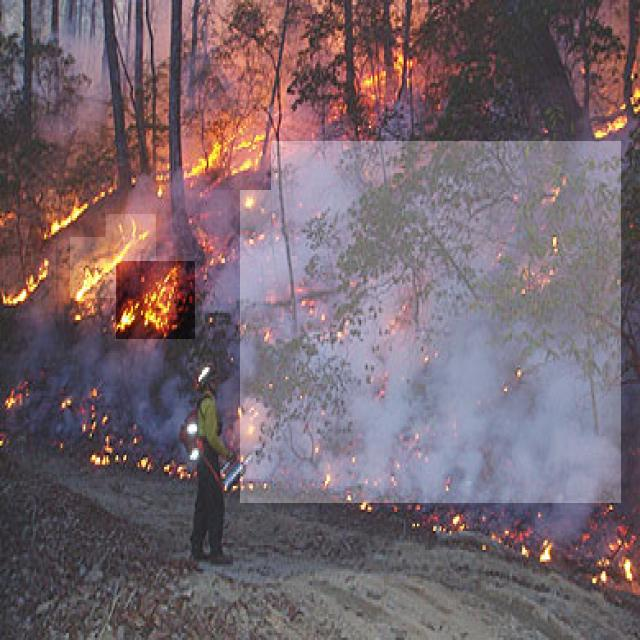Fire: (70, 214, 156, 298), (116, 261, 195, 339), (186, 122, 271, 190), (37, 187, 106, 237), (3, 258, 51, 318)
Smoke: (240, 141, 621, 503)
